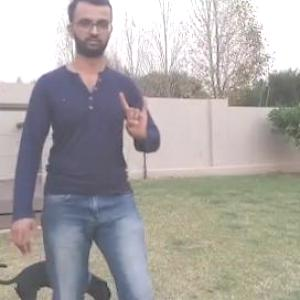takeoff-hand: (112, 86, 154, 148)
